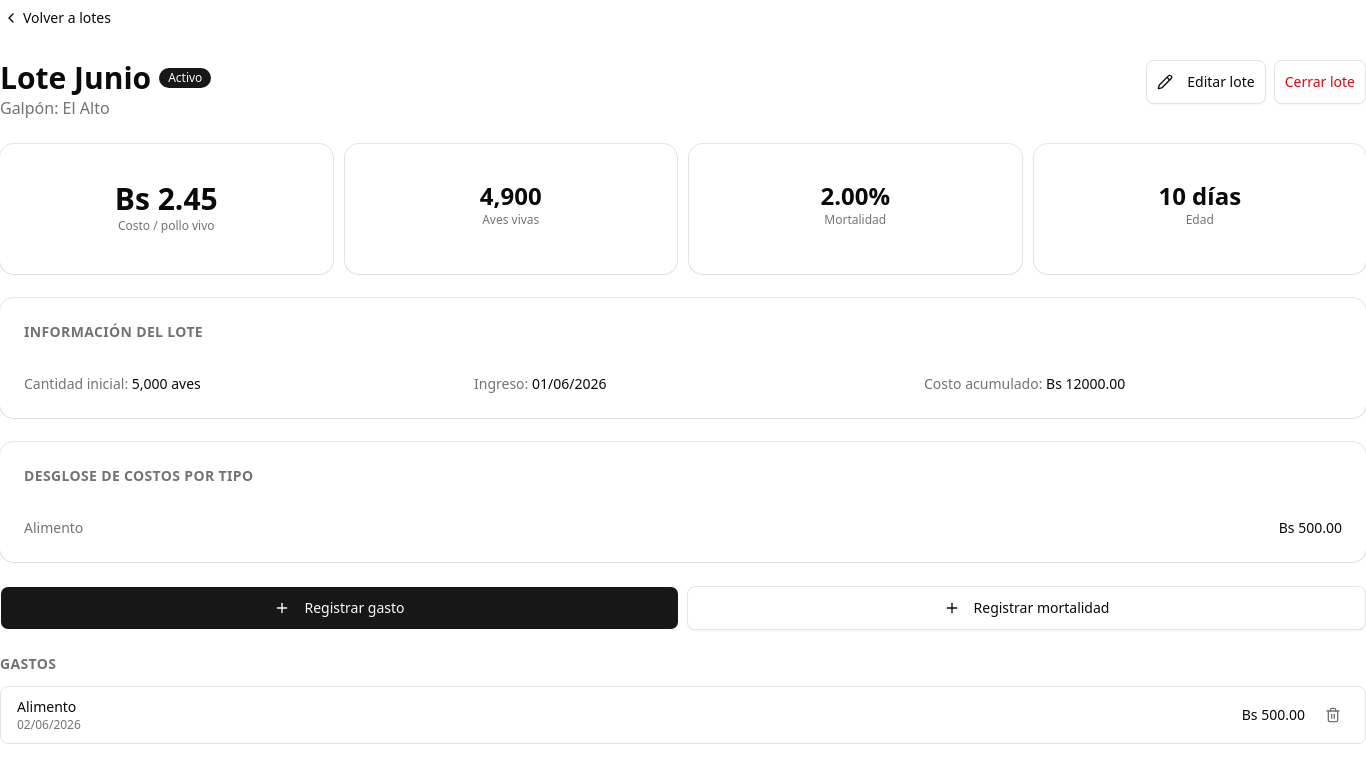
Test: LoteDetailPage — registro directo (sin pestañas) › el botón "Registrar mortalidad" abre el formulario de mortalidad
Click the button "Registrar mortalidad". click: {"x": 1026, "y": 608}
box: left=687, top=586, right=1365, bottom=630
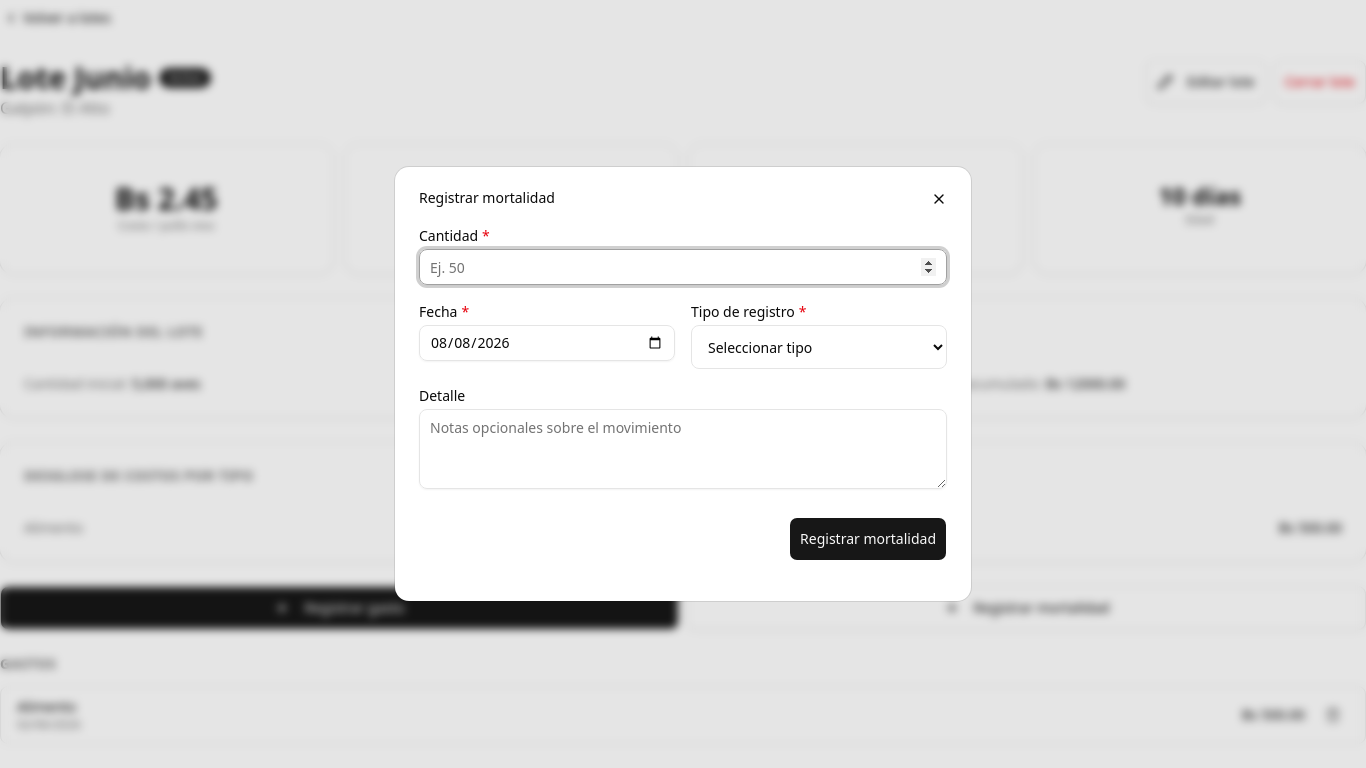
Result: the number field labelled "Cantidad *" is shown at left=419, top=249, right=947, bottom=285
